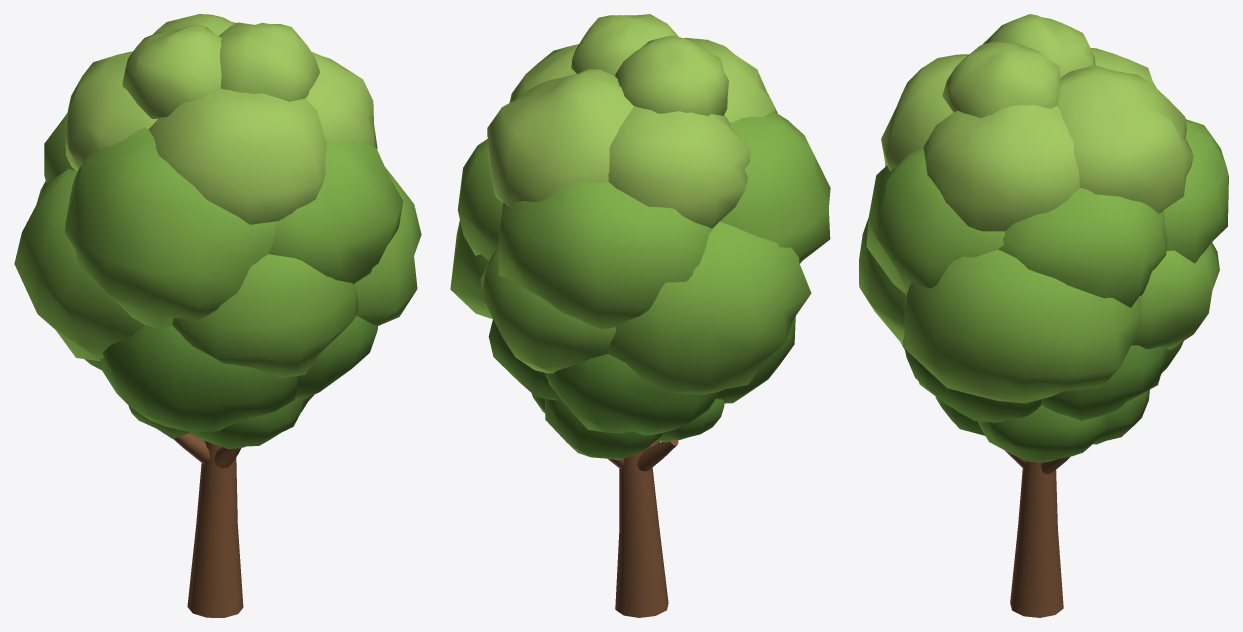
File: tree_ginkgo.glb
3 views of the same model, side by side, from view 1: azimuth 30°, elevation 25°; view 2: azimuth 150°, elevation 25°; view 3: azimuth 270°, elevation 25° (orthographic). The views are drawn at different scales.
Parts seen in each view (by area): view 1: tree_ginkgo; view 2: tree_ginkgo; view 3: tree_ginkgo.
Part boxes in pixels (left/top/right/bottom): tree_ginkgo: left=14, top=14, right=421, bottom=617; tree_ginkgo: left=450, top=14, right=830, bottom=617; tree_ginkgo: left=859, top=14, right=1228, bottom=617.
Size of the model in its own units: 2.49 by 4.05 by 2.37.
